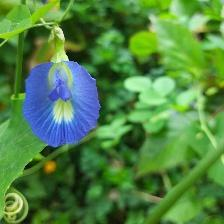shankupushpam: (23, 26, 103, 151)
